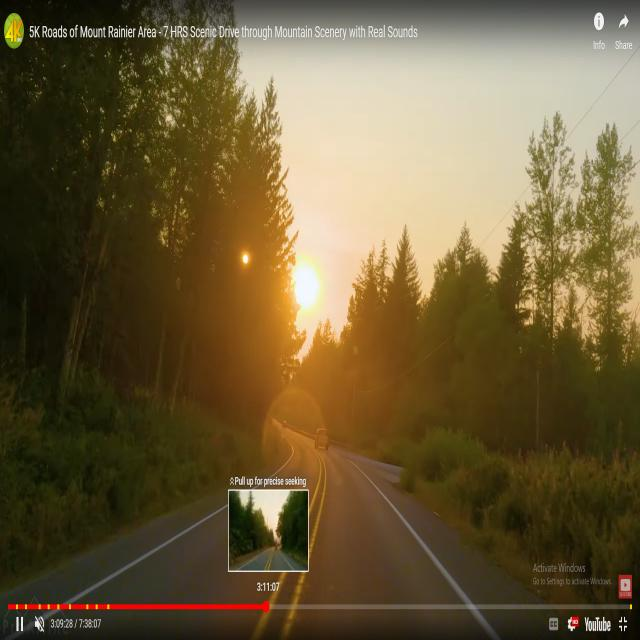sun: (288, 243, 328, 320)
